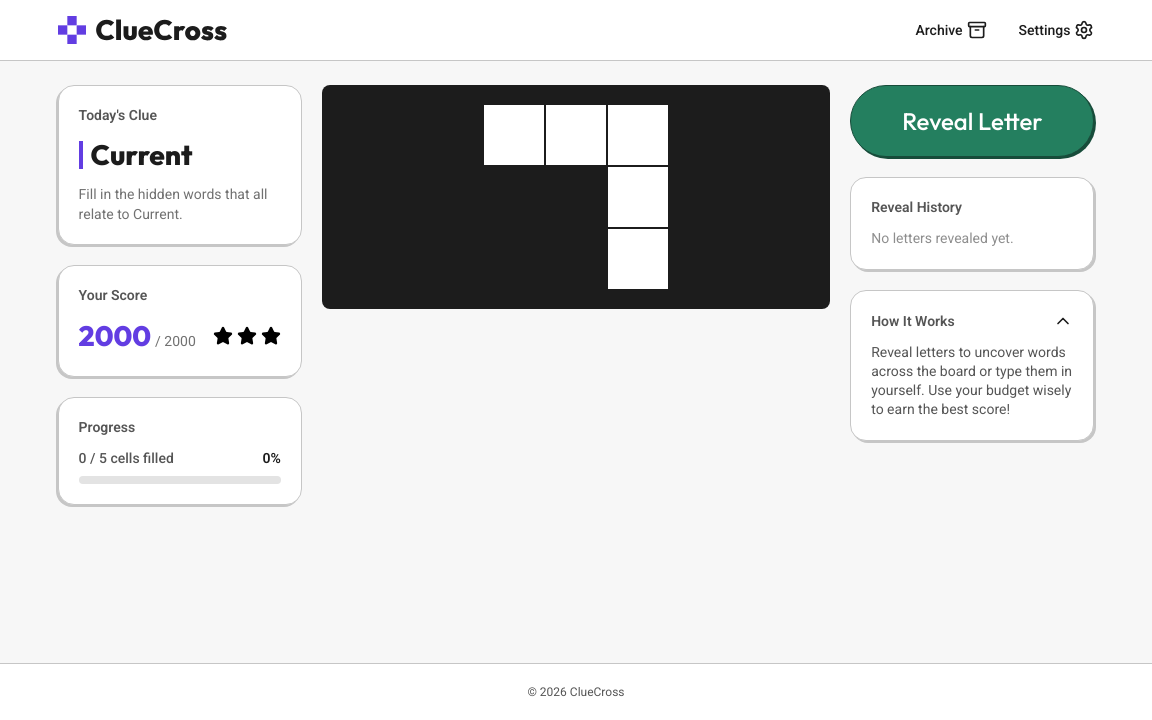
opening archived puzzles › fetches once, caches for the session, and returns to the current puzzle without a request
The width and height of the screenshot is (1152, 720).
Click the button "Archive": {"x": 951, "y": 30} x1=916 y1=20 x2=987 y2=40
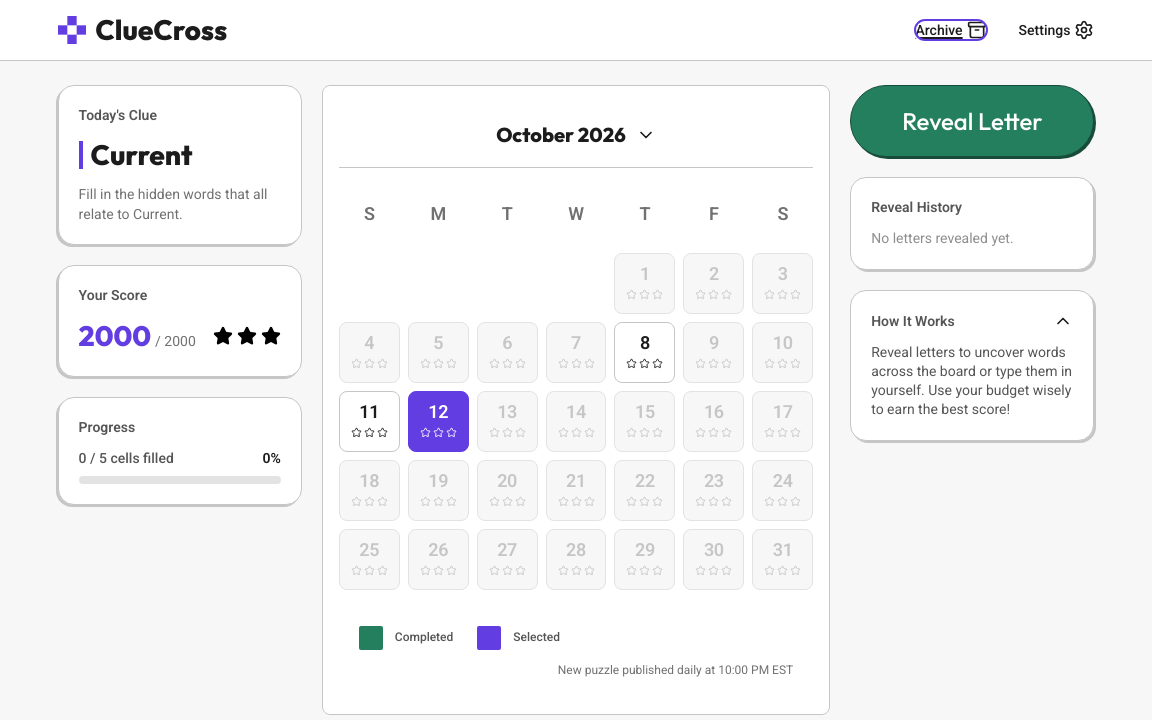
Click the button named "open puzzle for october 11, 2026": {"x": 369, "y": 421} x1=339 y1=391 x2=400 y2=452
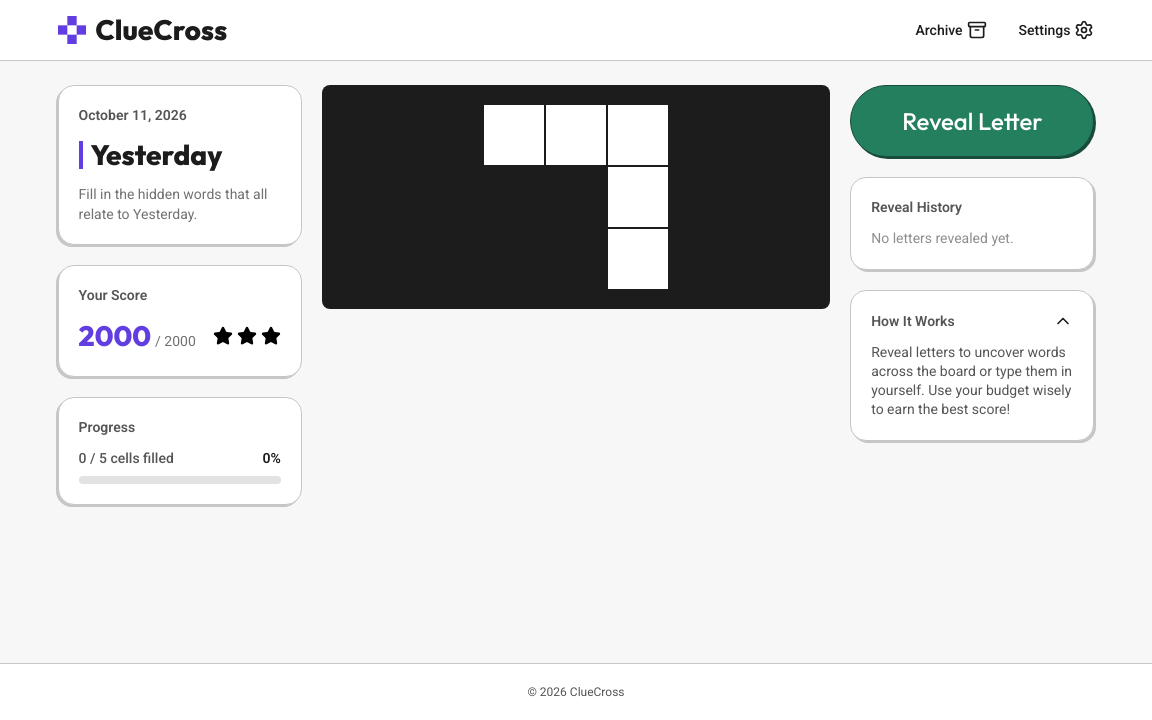
Now the heading "October 11, 2026 Yesterday" is shown, box x1=79 y1=106 x2=281 y2=169
Now the text "Today's Clue" is gone
Click the button "Archive": {"x": 951, "y": 30} x1=916 y1=20 x2=987 y2=40
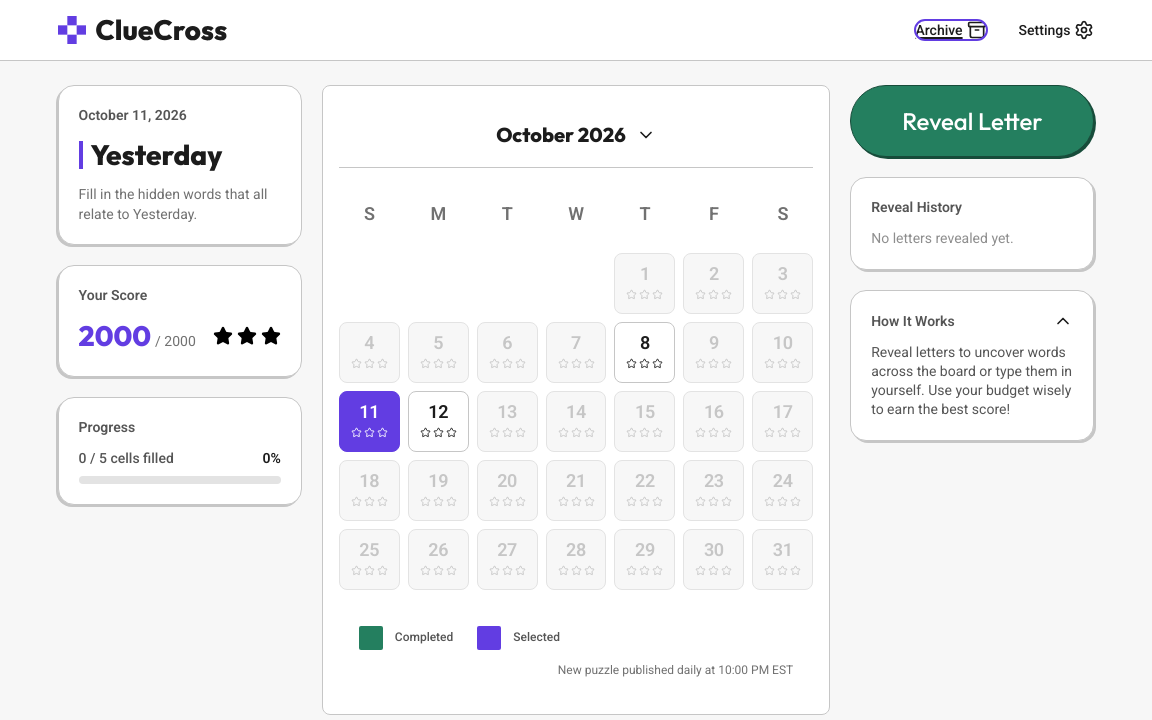
Click the button named "open puzzle for october 12, 2026": {"x": 438, "y": 421} x1=408 y1=391 x2=469 y2=452
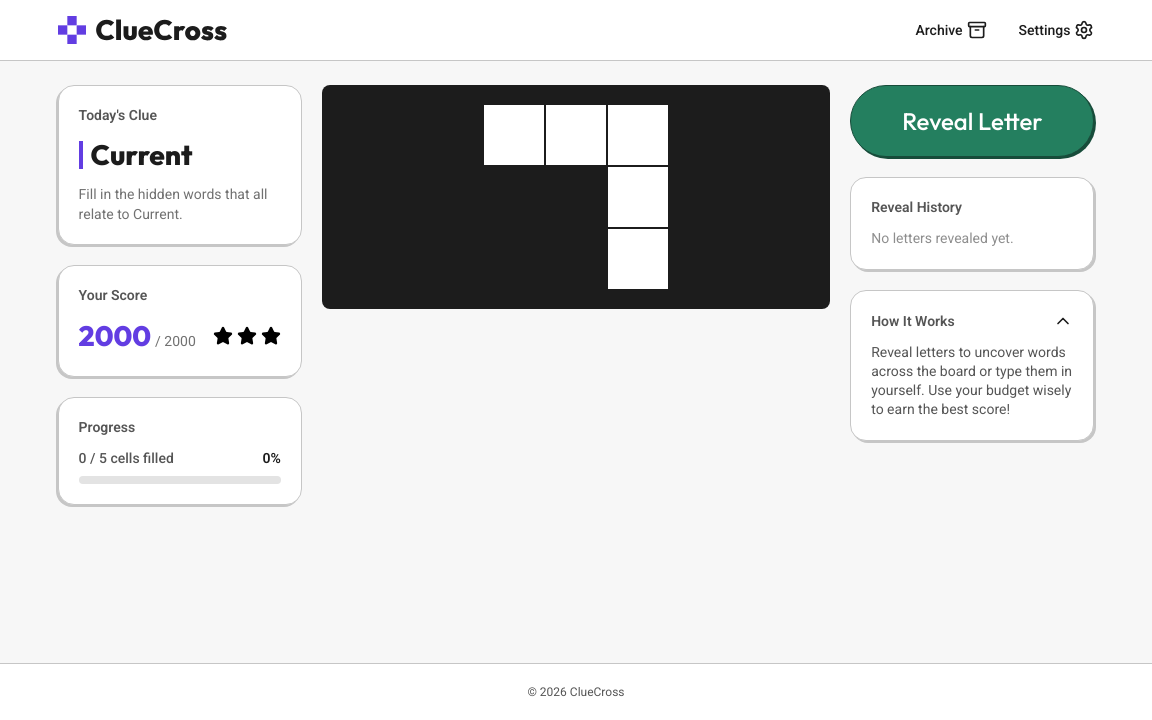
Now the heading "Today's Clue Current" is shown, box x1=79 y1=106 x2=281 y2=169
Click the button "Archive": {"x": 951, "y": 30} x1=916 y1=20 x2=987 y2=40
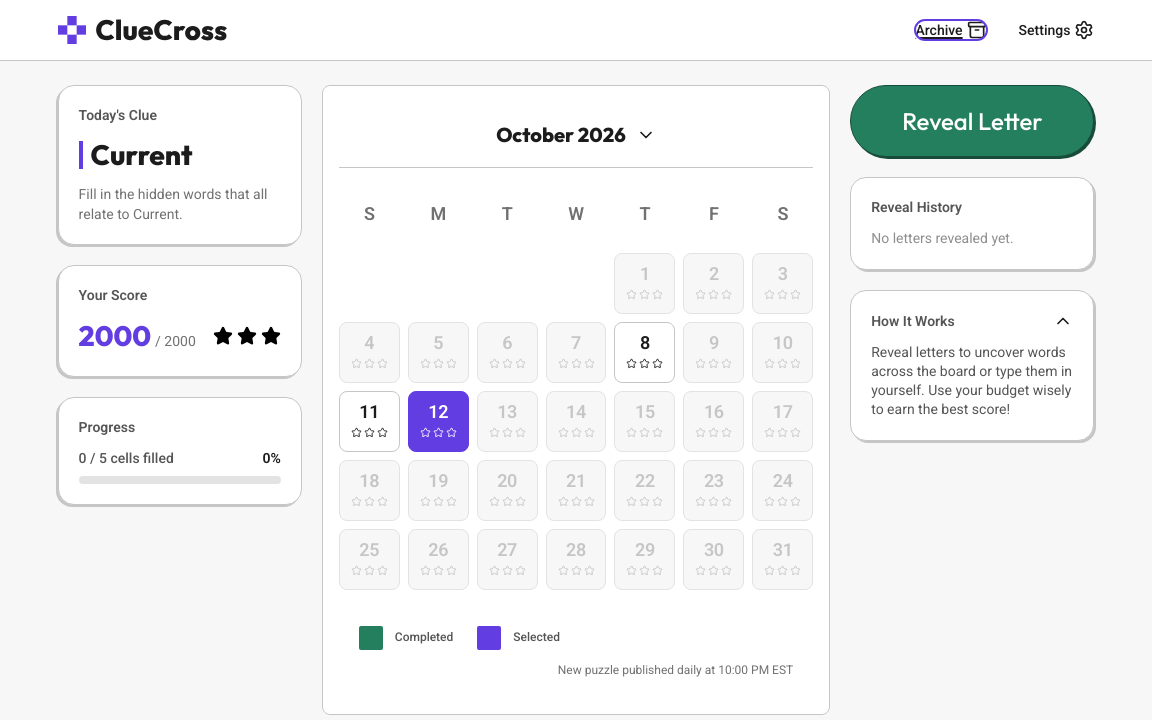
Click the button named "open puzzle for october 11, 2026": {"x": 369, "y": 421} x1=339 y1=391 x2=400 y2=452
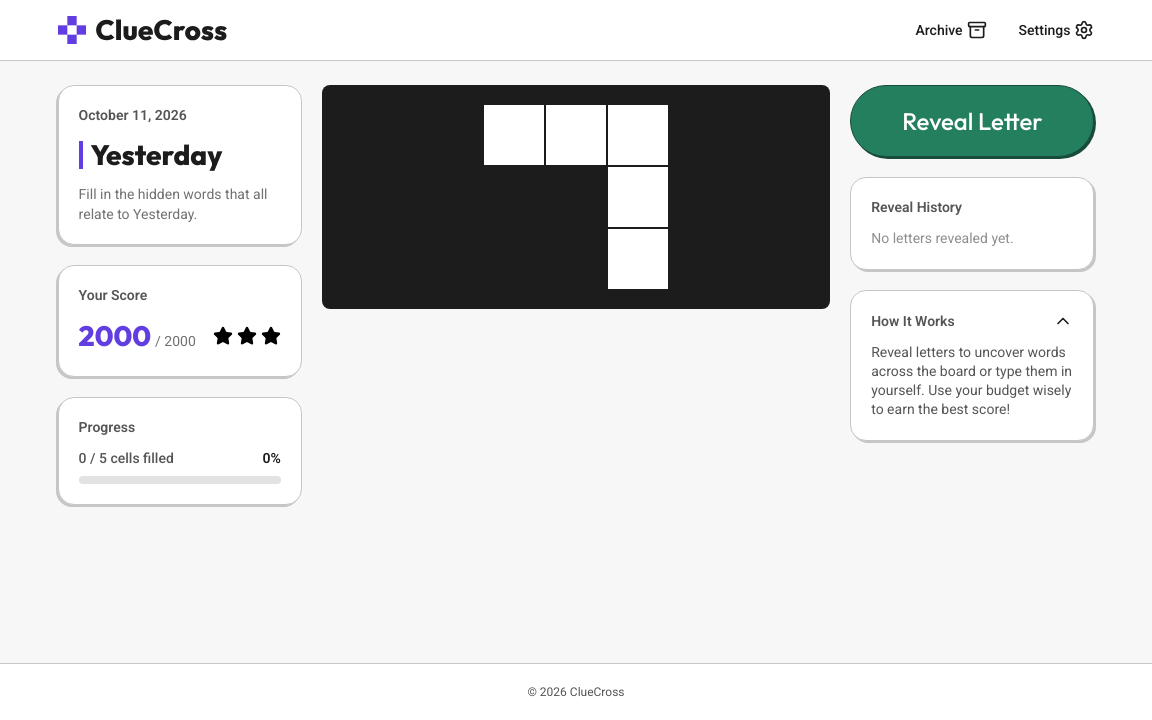
Now the heading "October 11, 2026 Yesterday" is shown, box x1=79 y1=106 x2=281 y2=169
